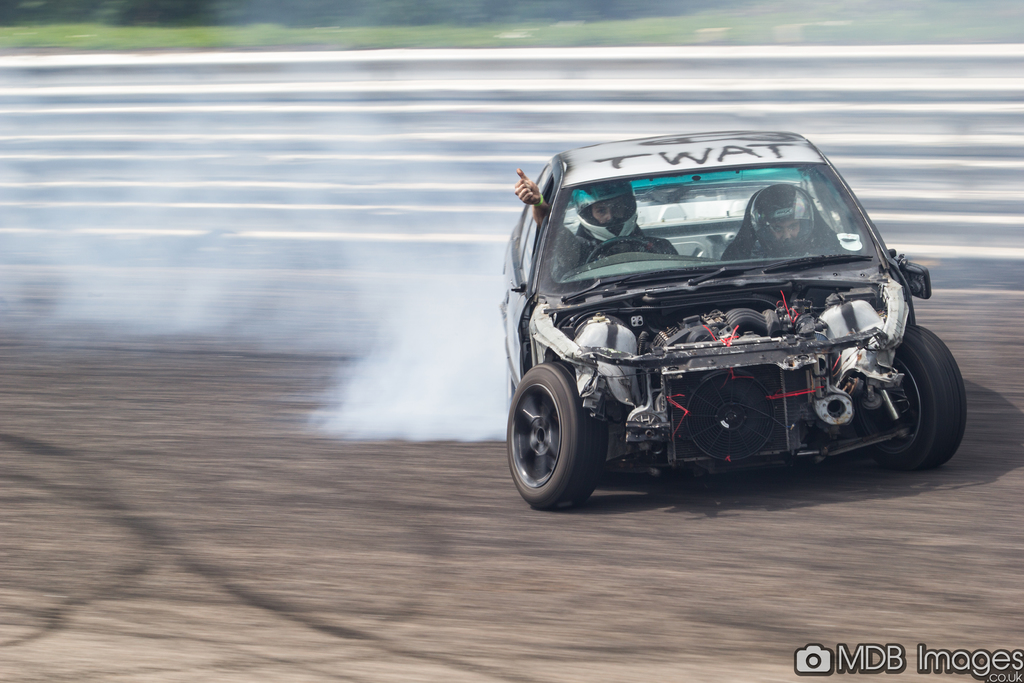cars: (499, 131, 957, 517)
